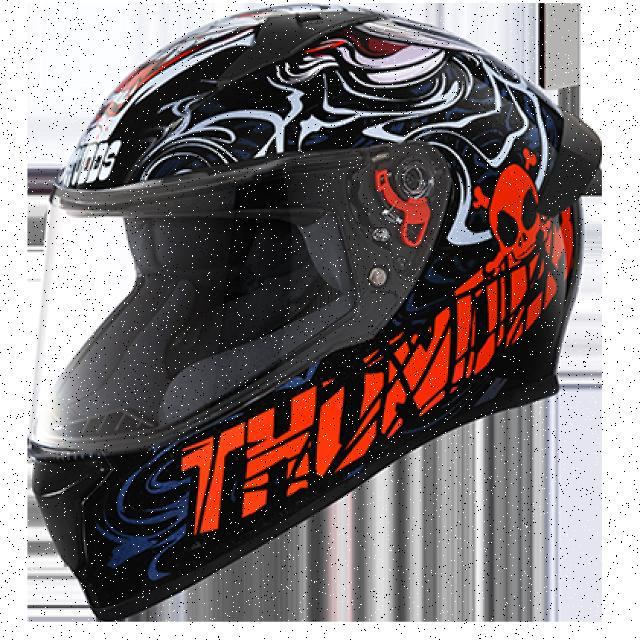Helmet: (30, 5, 601, 619)
